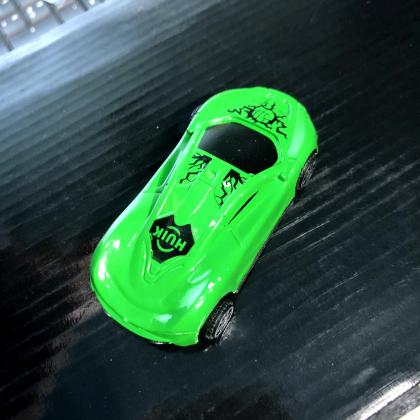Car: (89, 87, 319, 352)
